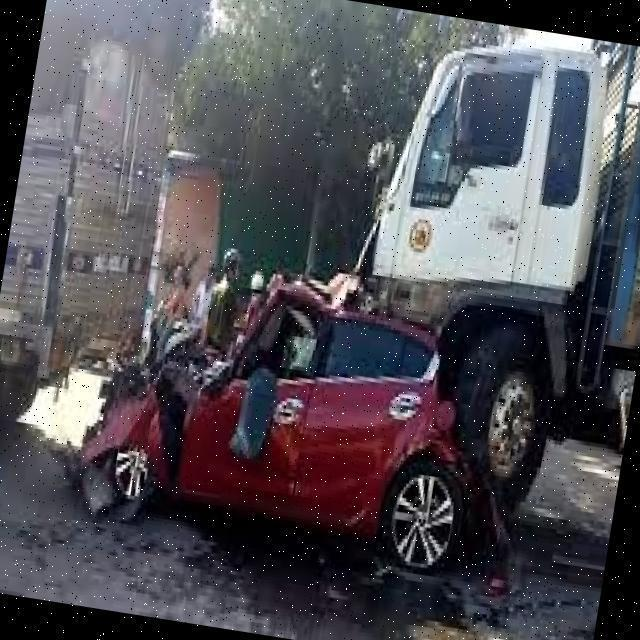accident: (0, 73, 599, 631)
